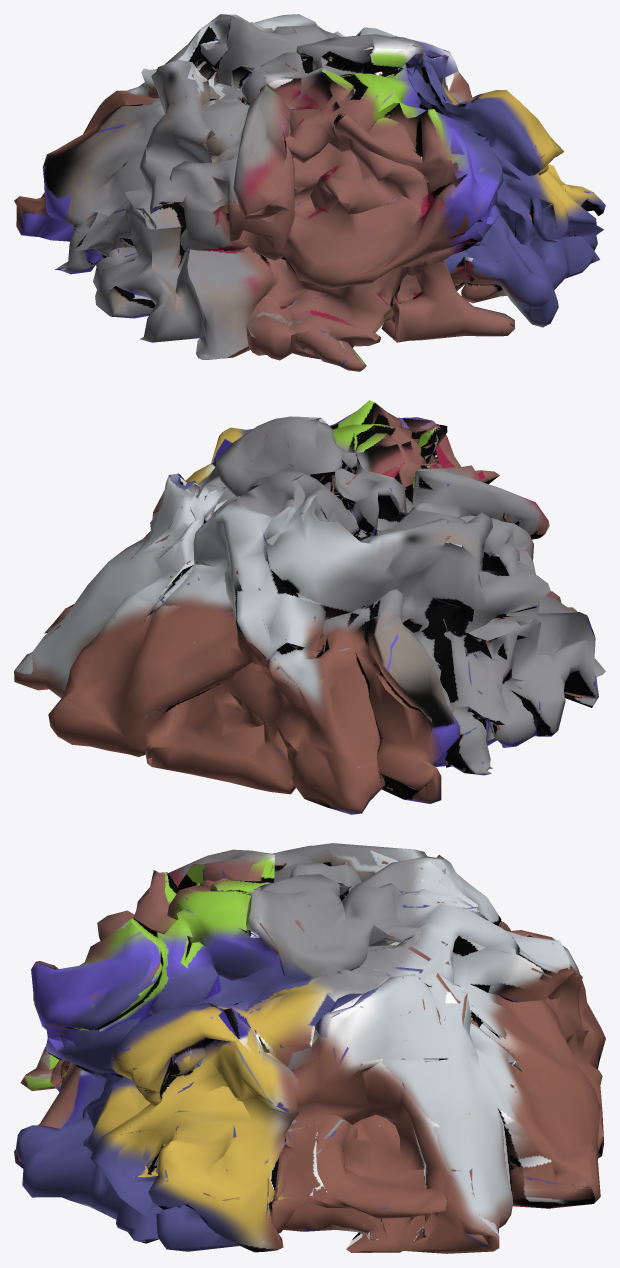
The model's file is PileOfClothes.fbx.
3 renders of one model, top to bottom at view 1: azimuth 30°, elevation 25°; view 2: azimuth 150°, elevation 25°; view 3: azimuth 270°, elevation 25°, orthographic. The views are drawn at different scales.
Visible parts, largest first — view 1: Mesh1.0; view 2: Mesh1.0; view 3: Mesh1.0.
Part boxes in pixels (x1,y1,x2,y2): Mesh1.0: [14, 14, 605, 371]; Mesh1.0: [14, 400, 605, 814]; Mesh1.0: [14, 843, 605, 1253].
Bounding box in the file's own units: 200 × 99.75 × 201.
Materials: 1 (1 with a texture image).
